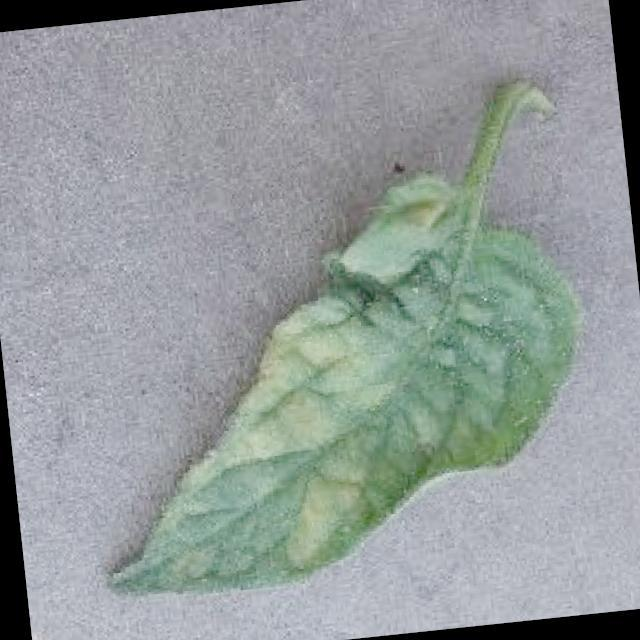Tomato mold leaf: (66, 157, 598, 604)
